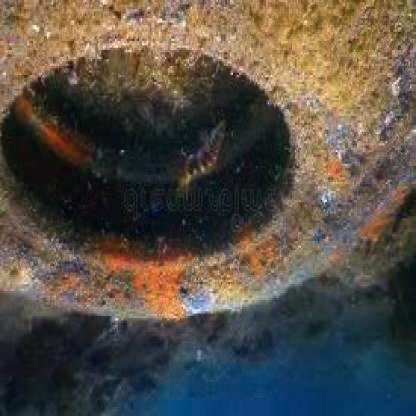tire: (6, 7, 416, 382)
